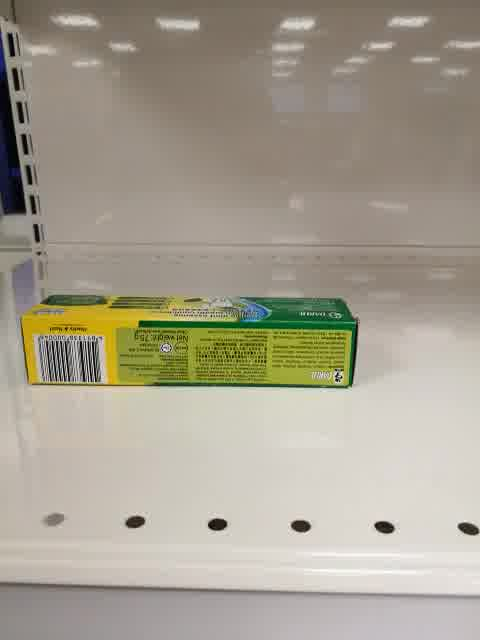toothpaste: (19, 293, 360, 390)
